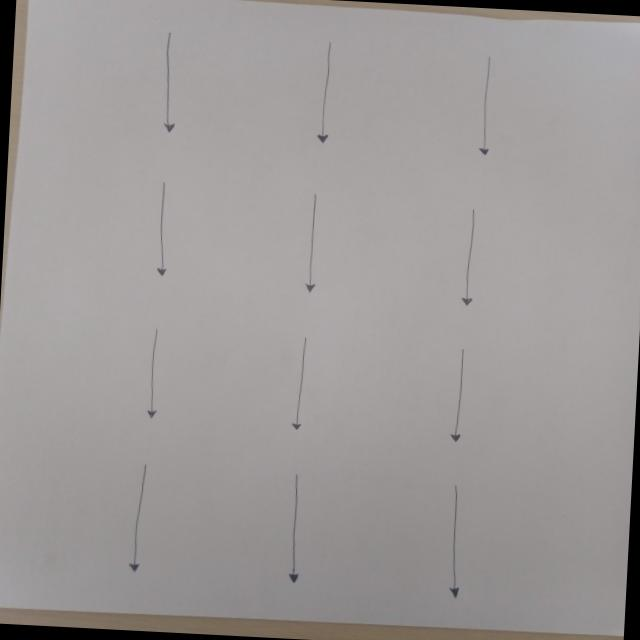arrow_line_down: (426, 479, 481, 604), (275, 474, 330, 589), (147, 176, 195, 287), (137, 33, 186, 138), (453, 201, 494, 316), (304, 39, 347, 147), (298, 188, 338, 296), (278, 334, 318, 441), (464, 56, 504, 160), (121, 459, 150, 576), (442, 344, 476, 442), (132, 331, 168, 421)
